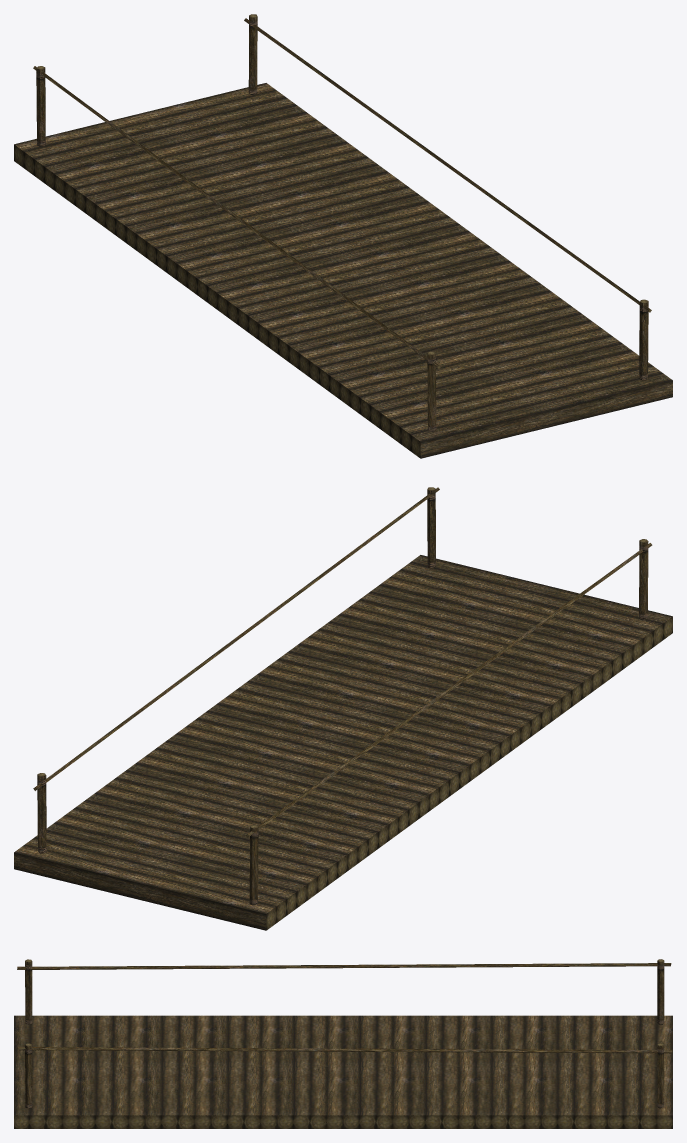
Rendered from thm_endr_village_tree_catwlk_s01_l0.fbx.
3 views of the same model, one above another, from view 1: azimuth 30°, elevation 25°; view 2: azimuth 150°, elevation 25°; view 3: azimuth 270°, elevation 25° (orthographic). The views are drawn at different scales.
Parts seen in each view (by area): view 1: mesh_node; view 2: mesh_node; view 3: mesh_node.
Part boxes in pixels (box(x1,y1,x2,y2)): mesh_node: box(14, 14, 672, 458); mesh_node: box(14, 487, 672, 930); mesh_node: box(14, 959, 672, 1128).
Size of the model in its own units: 3.58 by 1.28 by 10.
